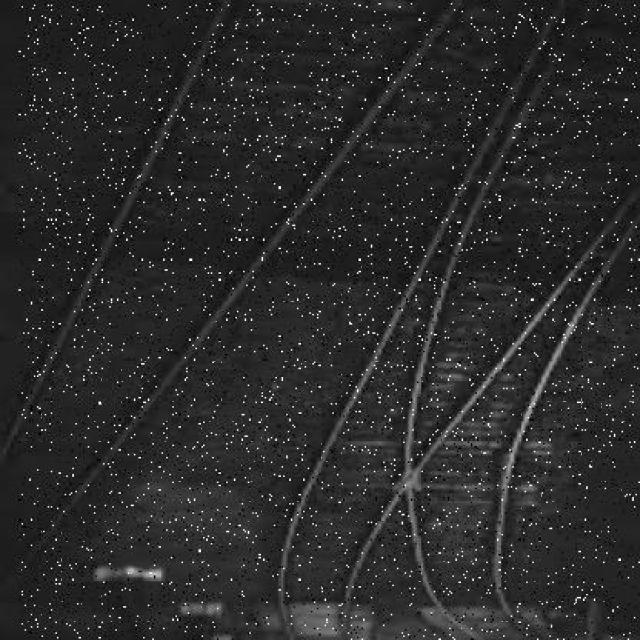rail: (18, 3, 640, 639)
